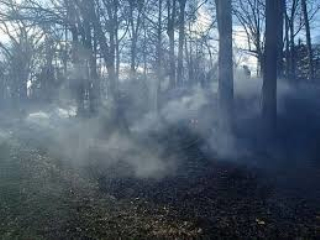smoke: (96, 77, 268, 184)
